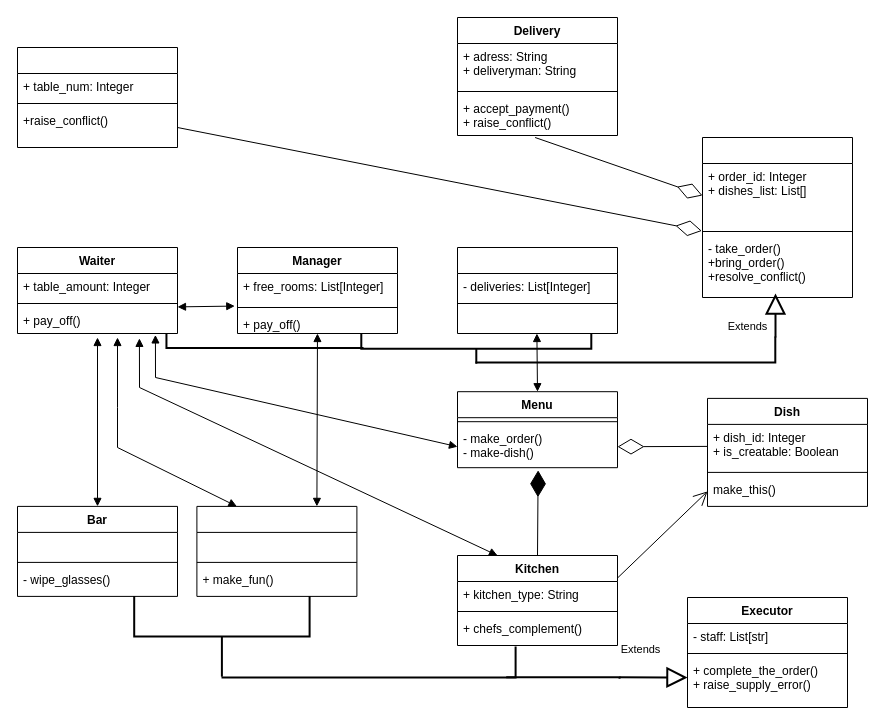
The diagram is 885 pixels wide and 728 high, and some of its shapes have lost their labels. Here are the shapes that lost their labels. From the top down, the box of each, then its label:
(16, 46, 178, 148): Order
(702, 136, 852, 298): Order_Control
(456, 246, 618, 334): CallCentre
(196, 505, 357, 596): Сhildren's_room
